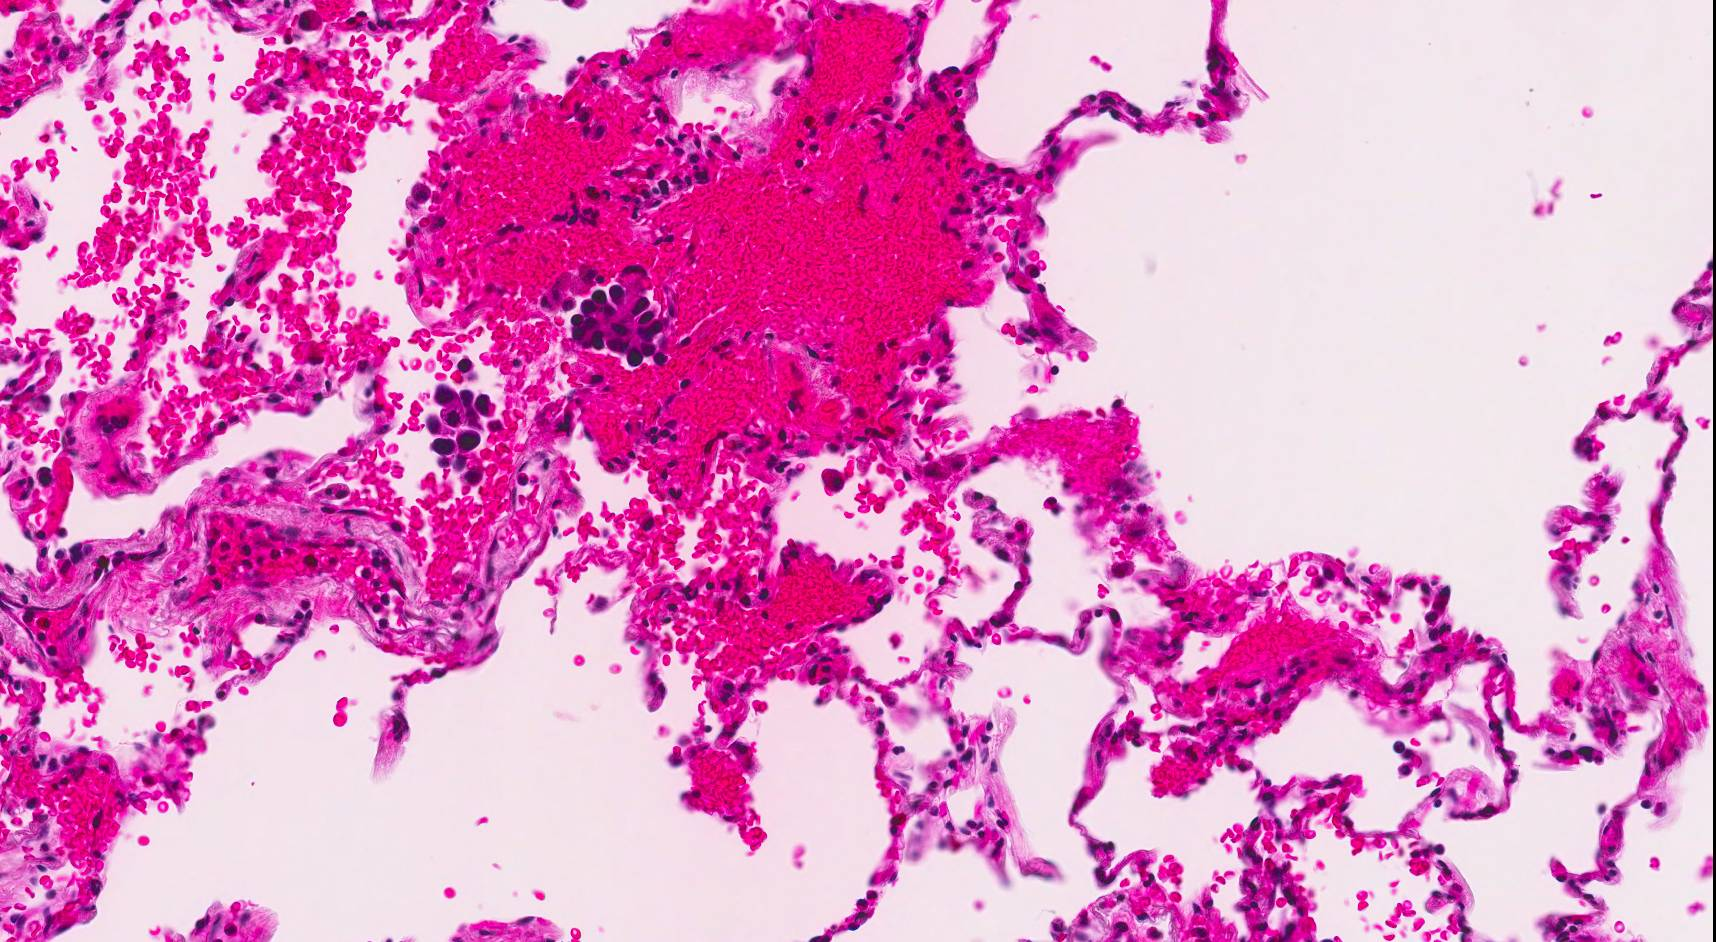stas: (568, 285, 672, 367), (424, 383, 500, 456)
